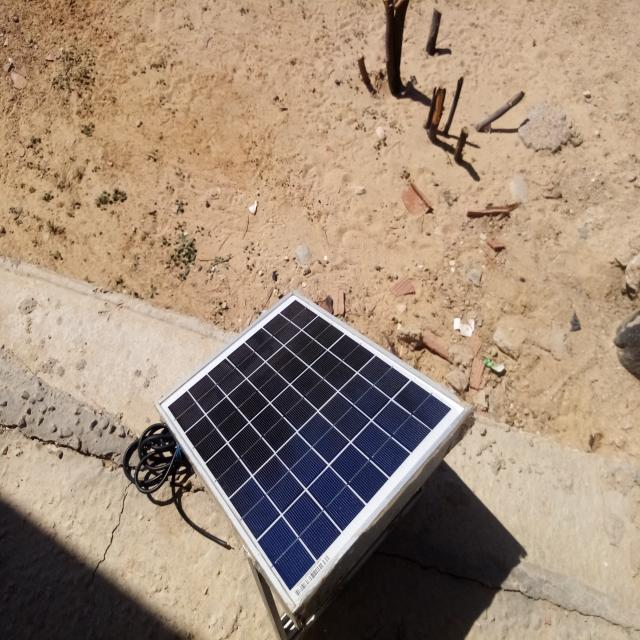no faulty: (160, 289, 472, 611)
